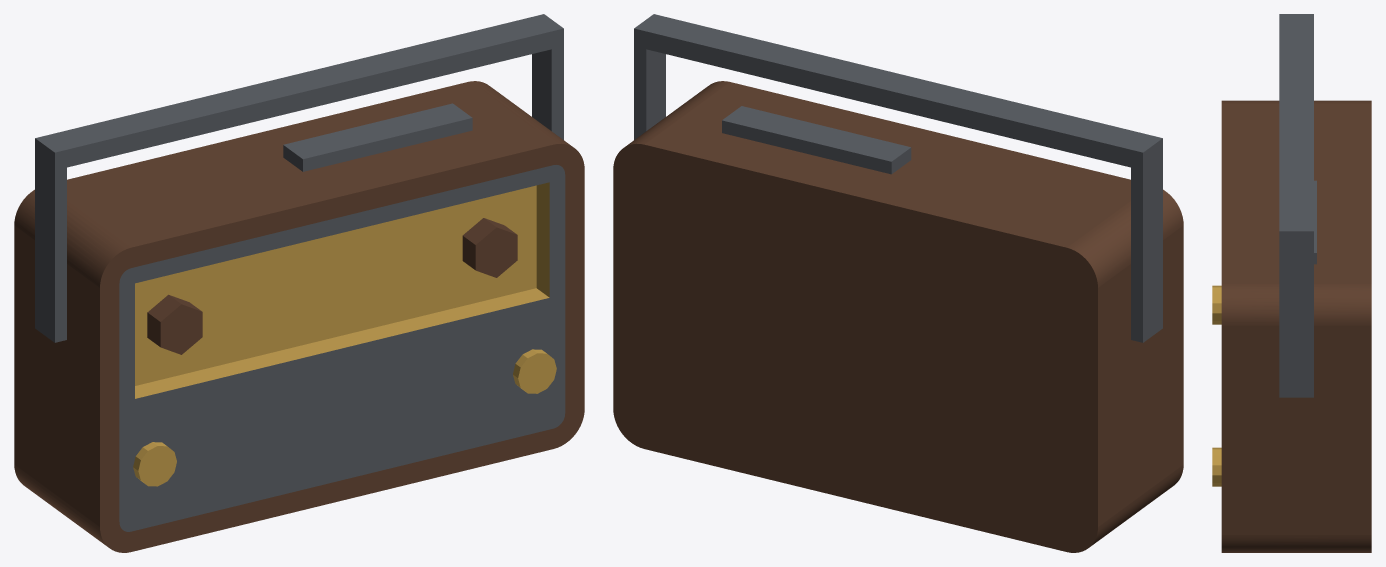
The model's file is radio.glb.
The picture shows the model from 3 angles, left to right: view 1: azimuth 30°, elevation 25°; view 2: azimuth 150°, elevation 25°; view 3: azimuth 270°, elevation 25°; orthographic projection. The views are drawn at different scales.
Visible parts, largest first — view 1: radio(Clone); view 2: radio(Clone); view 3: radio(Clone).
Part boxes in pixels (box(x1,y1,x2,y2)): radio(Clone): box(14, 14, 584, 552); radio(Clone): box(613, 14, 1183, 552); radio(Clone): box(1212, 14, 1371, 552).
Bounding box in the file's own units: 0.315 × 0.2282 × 0.0975.
